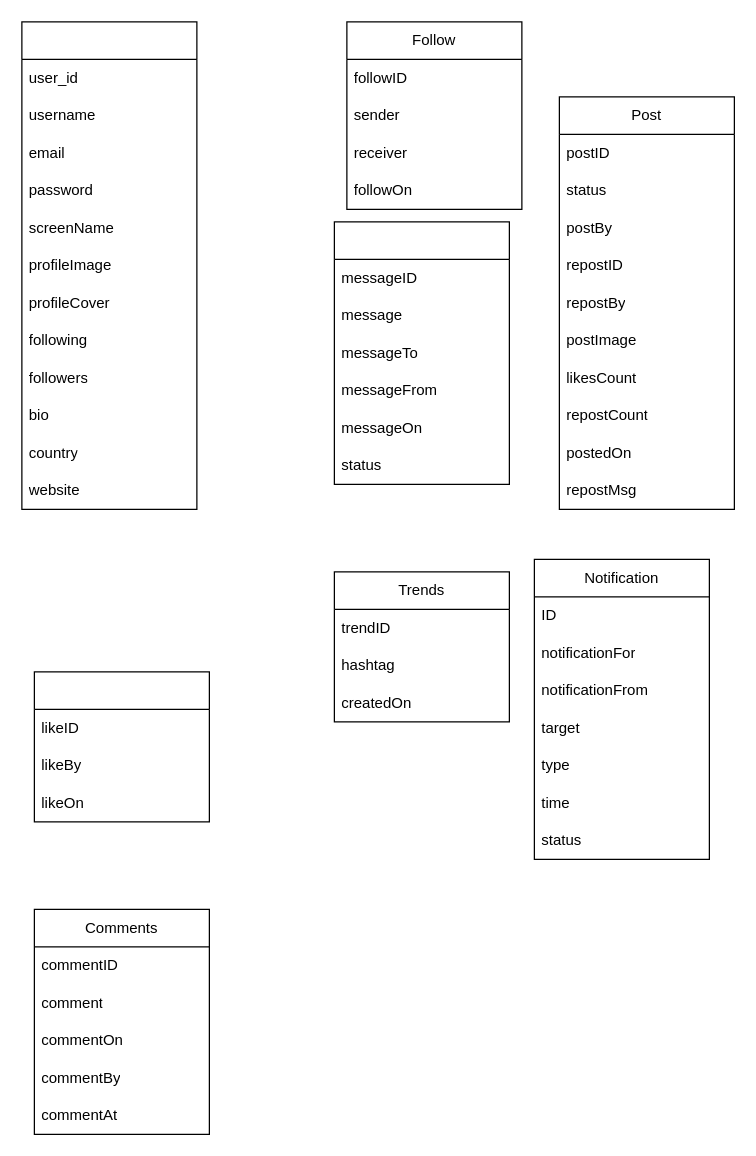
This 756x1156 diagram has some shape labels left out. The box of each missing label's shape, as (x1, y1, x2, y2) in pixels:
Likes: (33, 671, 209, 822)
Messanges: (333, 221, 509, 484)
Users: (21, 21, 197, 509)
